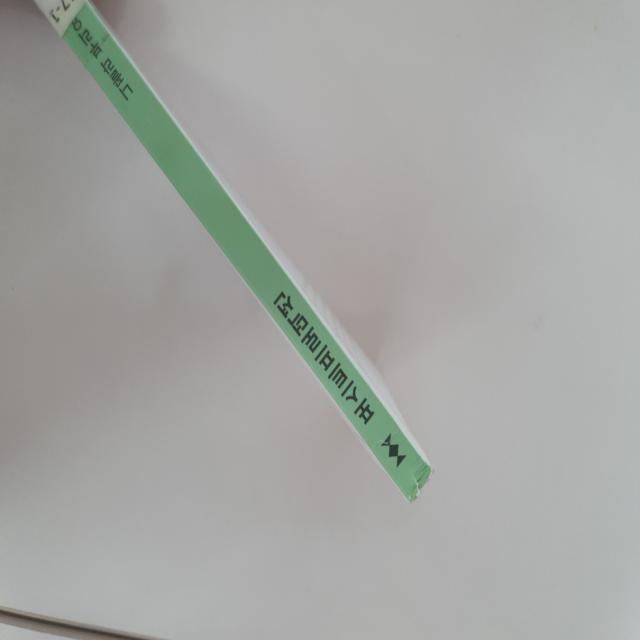Ripped: (404, 463, 436, 506)
